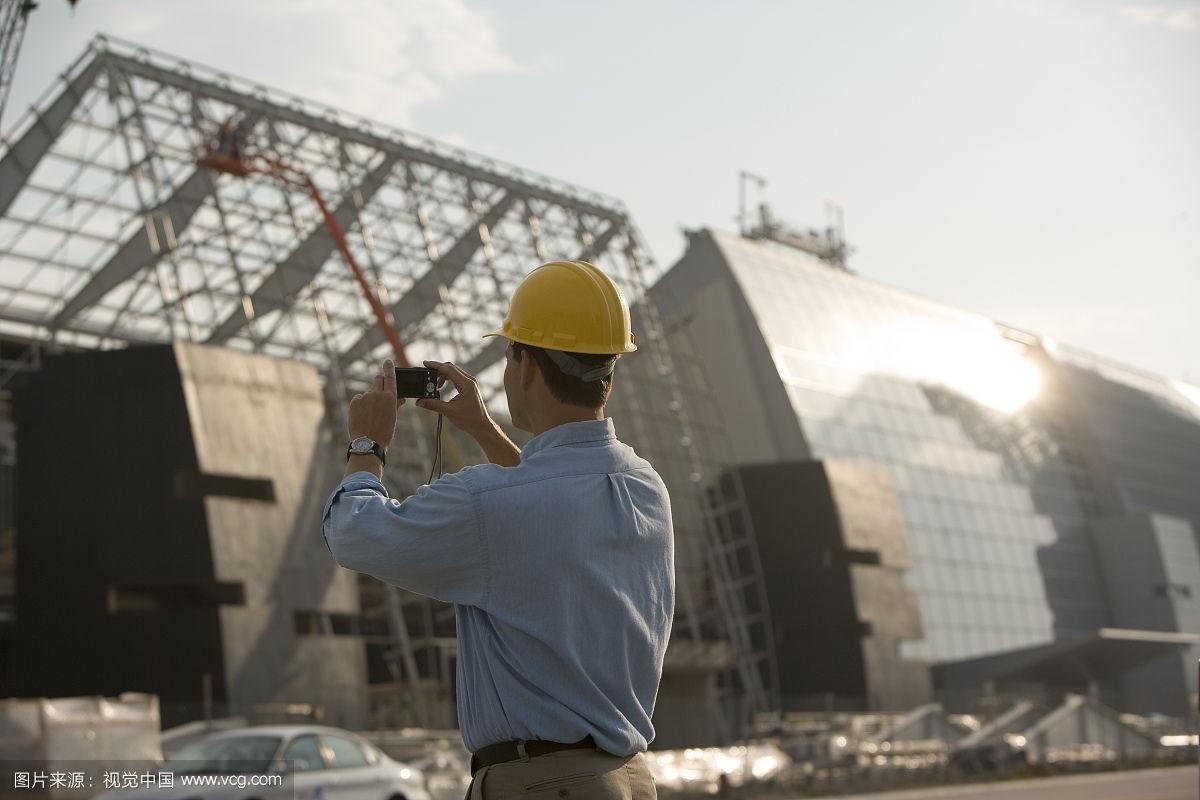helmet: (473, 242, 646, 374)
no-vest: (425, 402, 689, 767)
person: (386, 254, 698, 796)
